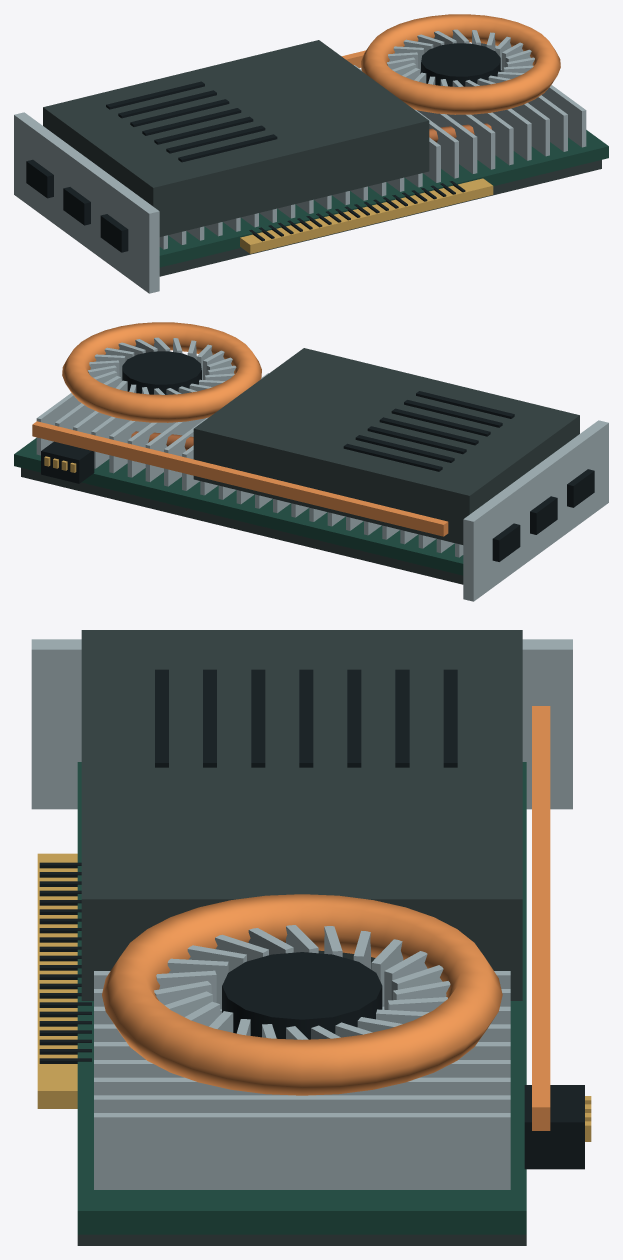
Rendered from gpu-blower.glb.
3 views of the same model, one above another, from view 1: azimuth 30°, elevation 25°; view 2: azimuth 150°, elevation 25°; view 3: azimuth 270°, elevation 25° (orthographic). The views are drawn at different scales.
Parts seen in each view (by area): view 1: Anodized graphite, Brushed aluminium (×2), Industrial orange, Rubber and ABS, gpu-blower, Contacts, fan-rotor; view 2: Anodized graphite, Brushed aluminium (×2), Industrial orange, gpu-blower, Rubber and ABS, fan-rotor; view 3: Anodized graphite, Brushed aluminium (×2), Industrial orange, gpu-blower, Rubber and ABS, fan-rotor, Contacts.
Part boxes in pixels (x1,y1,x2,y2): Anodized graphite: [43, 40, 601, 276]; Brushed aluminium (×2): [14, 29, 586, 293]; Industrial orange: [342, 14, 560, 114]; Rubber and ABS: [26, 81, 465, 252]; gpu-blower: [159, 130, 608, 267]; Contacts: [240, 178, 493, 253]; fan-rotor: [421, 43, 500, 86]; Anodized graphite: [21, 348, 579, 584]; Brushed aluminium (×2): [36, 337, 608, 601]; Industrial orange: [32, 322, 448, 536]; gpu-blower: [14, 438, 463, 575]; Rubber and ABS: [41, 391, 594, 561]; fan-rotor: [122, 351, 201, 394]; Anodized graphite: [77, 630, 526, 1245]; Brushed aluminium (×2): [31, 639, 572, 1189]; Industrial orange: [102, 706, 550, 1130]; gpu-blower: [77, 762, 526, 1234]; Rubber and ABS: [39, 669, 584, 1169]; fan-rotor: [222, 952, 382, 1039]; Contacts: [37, 853, 591, 1141].
Size of the model in its own units: 2.75 by 0.5466 by 1.4.
